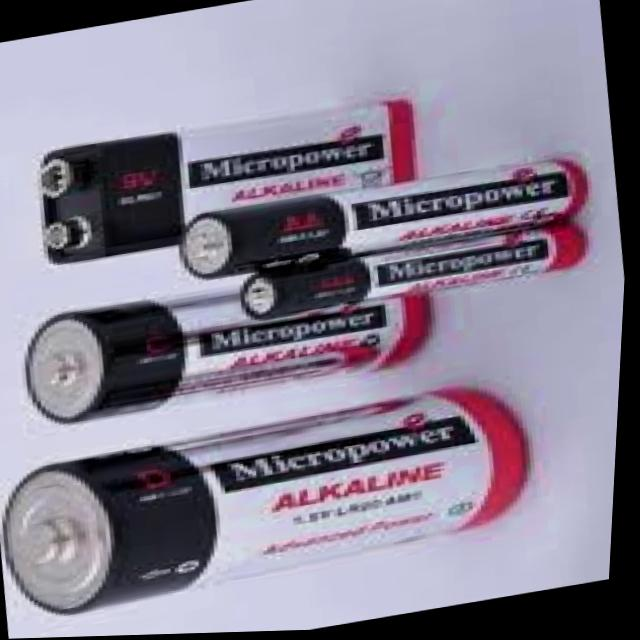B3: (0, 371, 555, 640), (168, 143, 609, 338)
